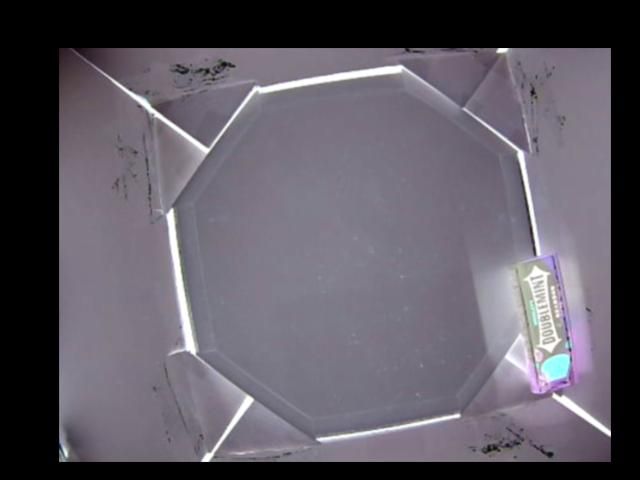Bottle: (510, 254, 580, 395)
